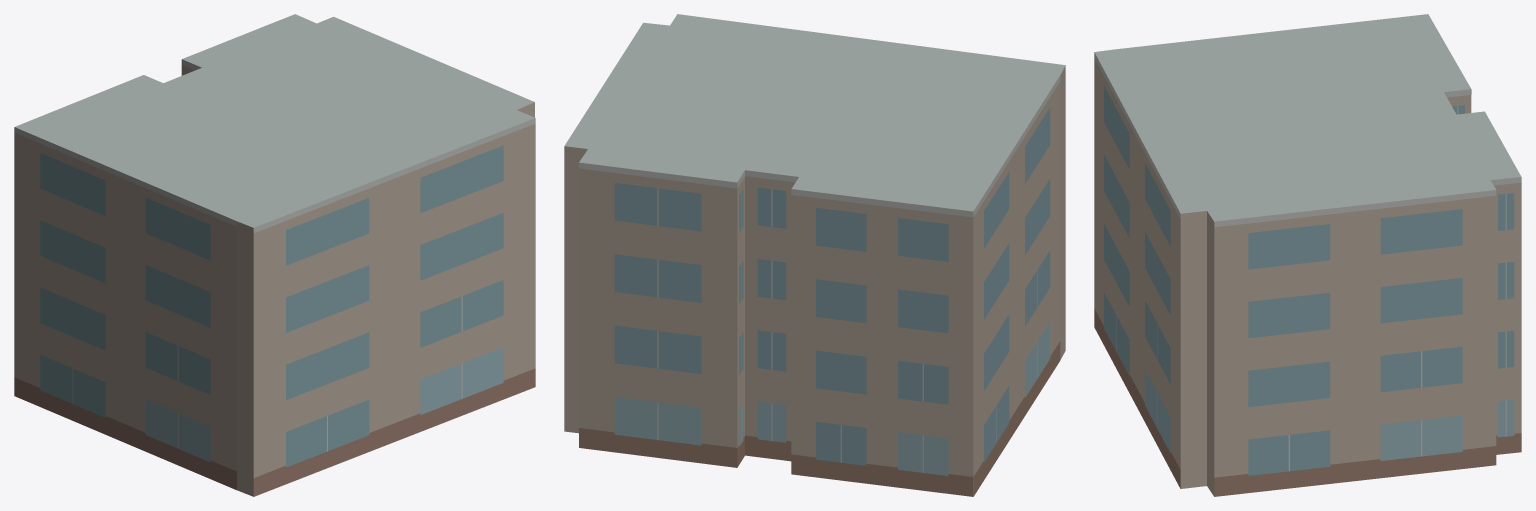
File: survey-upis-32960495.glb
The picture shows the model from 3 angles, left to right: view 1: azimuth 30°, elevation 25°; view 2: azimuth 150°, elevation 25°; view 3: azimuth 270°, elevation 25°; orthographic projection. The views are drawn at different scales.
Parts seen in each view (by area): view 1: survey-upis-32960495.tmp; view 2: survey-upis-32960495.tmp; view 3: survey-upis-32960495.tmp.
Part boxes in pixels (x1,y1,x2,y2): survey-upis-32960495.tmp: (14, 14, 535, 496); survey-upis-32960495.tmp: (564, 14, 1065, 496); survey-upis-32960495.tmp: (1094, 14, 1521, 496).
Bounding box in the file's own units: 19.02 × 11.75 × 16.54.
